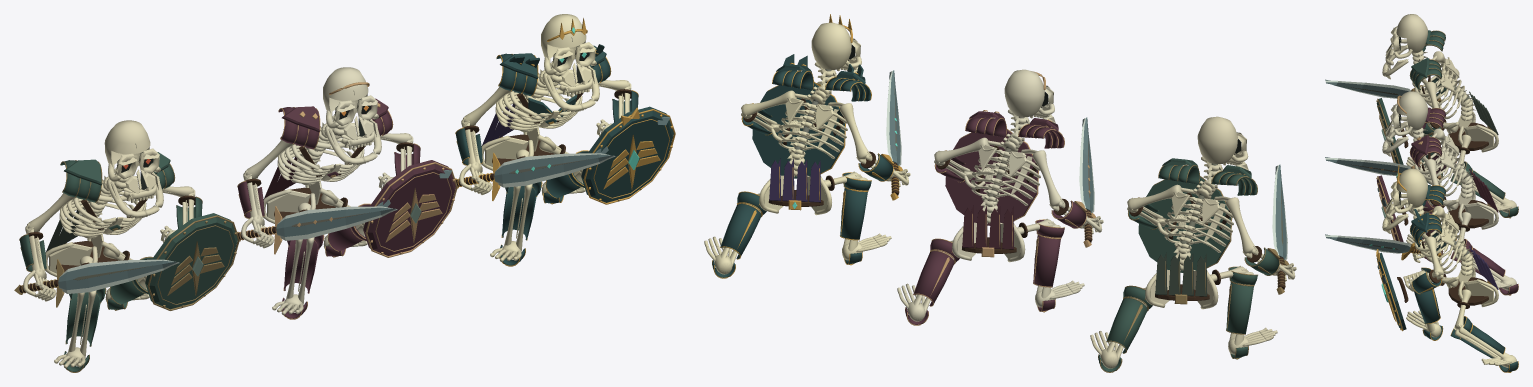
Rendered from stalfos.glb.
3 views of the same model, side by side, from view 1: azimuth 30°, elevation 25°; view 2: azimuth 150°, elevation 25°; view 3: azimuth 270°, elevation 25° (orthographic). The views are drawn at different scales.
Parts seen in each view (by area): view 1: Sentinel.27.forged twelve-sided shield, Champion.27.forged twelve-sided shield, Warden.27.forged twelve-sided shield, Champion.34.forged ridged blade, Sentinel.34.forged ridged blade, Warden.34.forged ridged blade, Sentinel.11.cranial vault with open face, Champion.11.cranial vault with open face, Warden.11.cranial vault with open face, Sentinel.58.fluted greave, Champion.58.fluted greave, Warden.58.fluted greave (+8 smaller); view 2: Champion.27.forged twelve-sided shield, Sentinel.27.forged twelve-sided shield, Warden.27.forged twelve-sided shield, Warden.11.cranial vault with open face, Sentinel.11.cranial vault with open face, Champion.11.cranial vault with open face, Sentinel.49.fluted greave, Warden.49.fluted greave, Champion.49.fluted greave, Warden.58.fluted greave, Champion.58.fluted greave, Sentinel.58.fluted greave (+9 smaller); view 3: Sentinel.11.cranial vault with open face, Champion.11.cranial vault with open face, Warden.34.forged ridged blade, Warden.11.cranial vault with open face, Sentinel.34.forged ridged blade, Champion.34.forged ridged blade, Warden.58.fluted greave, Warden.27.forged twelve-sided shield, Warden.49.fluted greave, Sentinel.60.iliac wing.001, Warden.60.war belt, Champion.60.iliac wing.001 (+25 smaller).
Part boxes in pixels (x1,y1,x2,y2): Sentinel.27.forged twelve-sided shield: (145,213,237,309); Champion.27.forged twelve-sided shield: (363,160,455,255); Warden.27.forged twelve-sided shield: (581,106,673,202); Champion.34.forged ridged blade: (276,206,397,240); Sentinel.34.forged ridged blade: (58,259,179,293); Warden.34.forged ridged blade: (494,153,615,187); Sentinel.11.cranial vault with open face: (104,120,150,170); Champion.11.cranial vault with open face: (323,67,368,116); Warden.11.cranial vault with open face: (541,14,586,63); Sentinel.58.fluted greave: (66,292,100,346); Champion.58.fluted greave: (284,239,318,293); Warden.58.fluted greave: (502,186,536,240); Champion.27.forged twelve-sided shield: (945,130,1037,225); Sentinel.27.forged twelve-sided shield: (1138,177,1230,272); Warden.27.forged twelve-sided shield: (752,83,844,178); Warden.11.cranial vault with open face: (811,22,851,69); Sentinel.11.cranial vault with open face: (1197,116,1237,163); Champion.11.cranial vault with open face: (1004,69,1044,116); Sentinel.49.fluted greave: (1106,298,1147,353); Warden.49.fluted greave: (720,204,761,258); Champion.49.fluted greave: (913,251,954,305); Warden.58.fluted greave: (840,188,867,239); Champion.58.fluted greave: (1033,235,1060,286); Sentinel.58.fluted greave: (1226,282,1253,333); Sentinel.11.cranial vault with open face: (1396,14,1427,53); Champion.11.cranial vault with open face: (1396,91,1427,130); Warden.34.forged ridged blade: (1325,234,1411,253); Warden.11.cranial vault with open face: (1396,168,1427,207); Sentinel.34.forged ridged blade: (1325,79,1410,98); Champion.34.forged ridged blade: (1325,157,1410,175); Warden.58.fluted greave: (1414,289,1440,323); Warden.27.forged twelve-sided shield: (1376,252,1406,330); Warden.49.fluted greave: (1460,325,1504,358); Sentinel.60.iliac wing.001: (1463,125,1494,150); Warden.60.war belt: (1448,277,1488,305); Champion.60.iliac wing.001: (1463,202,1494,227).
Bounding box in the file's own units: 145 × 55.97 × 52.94.
